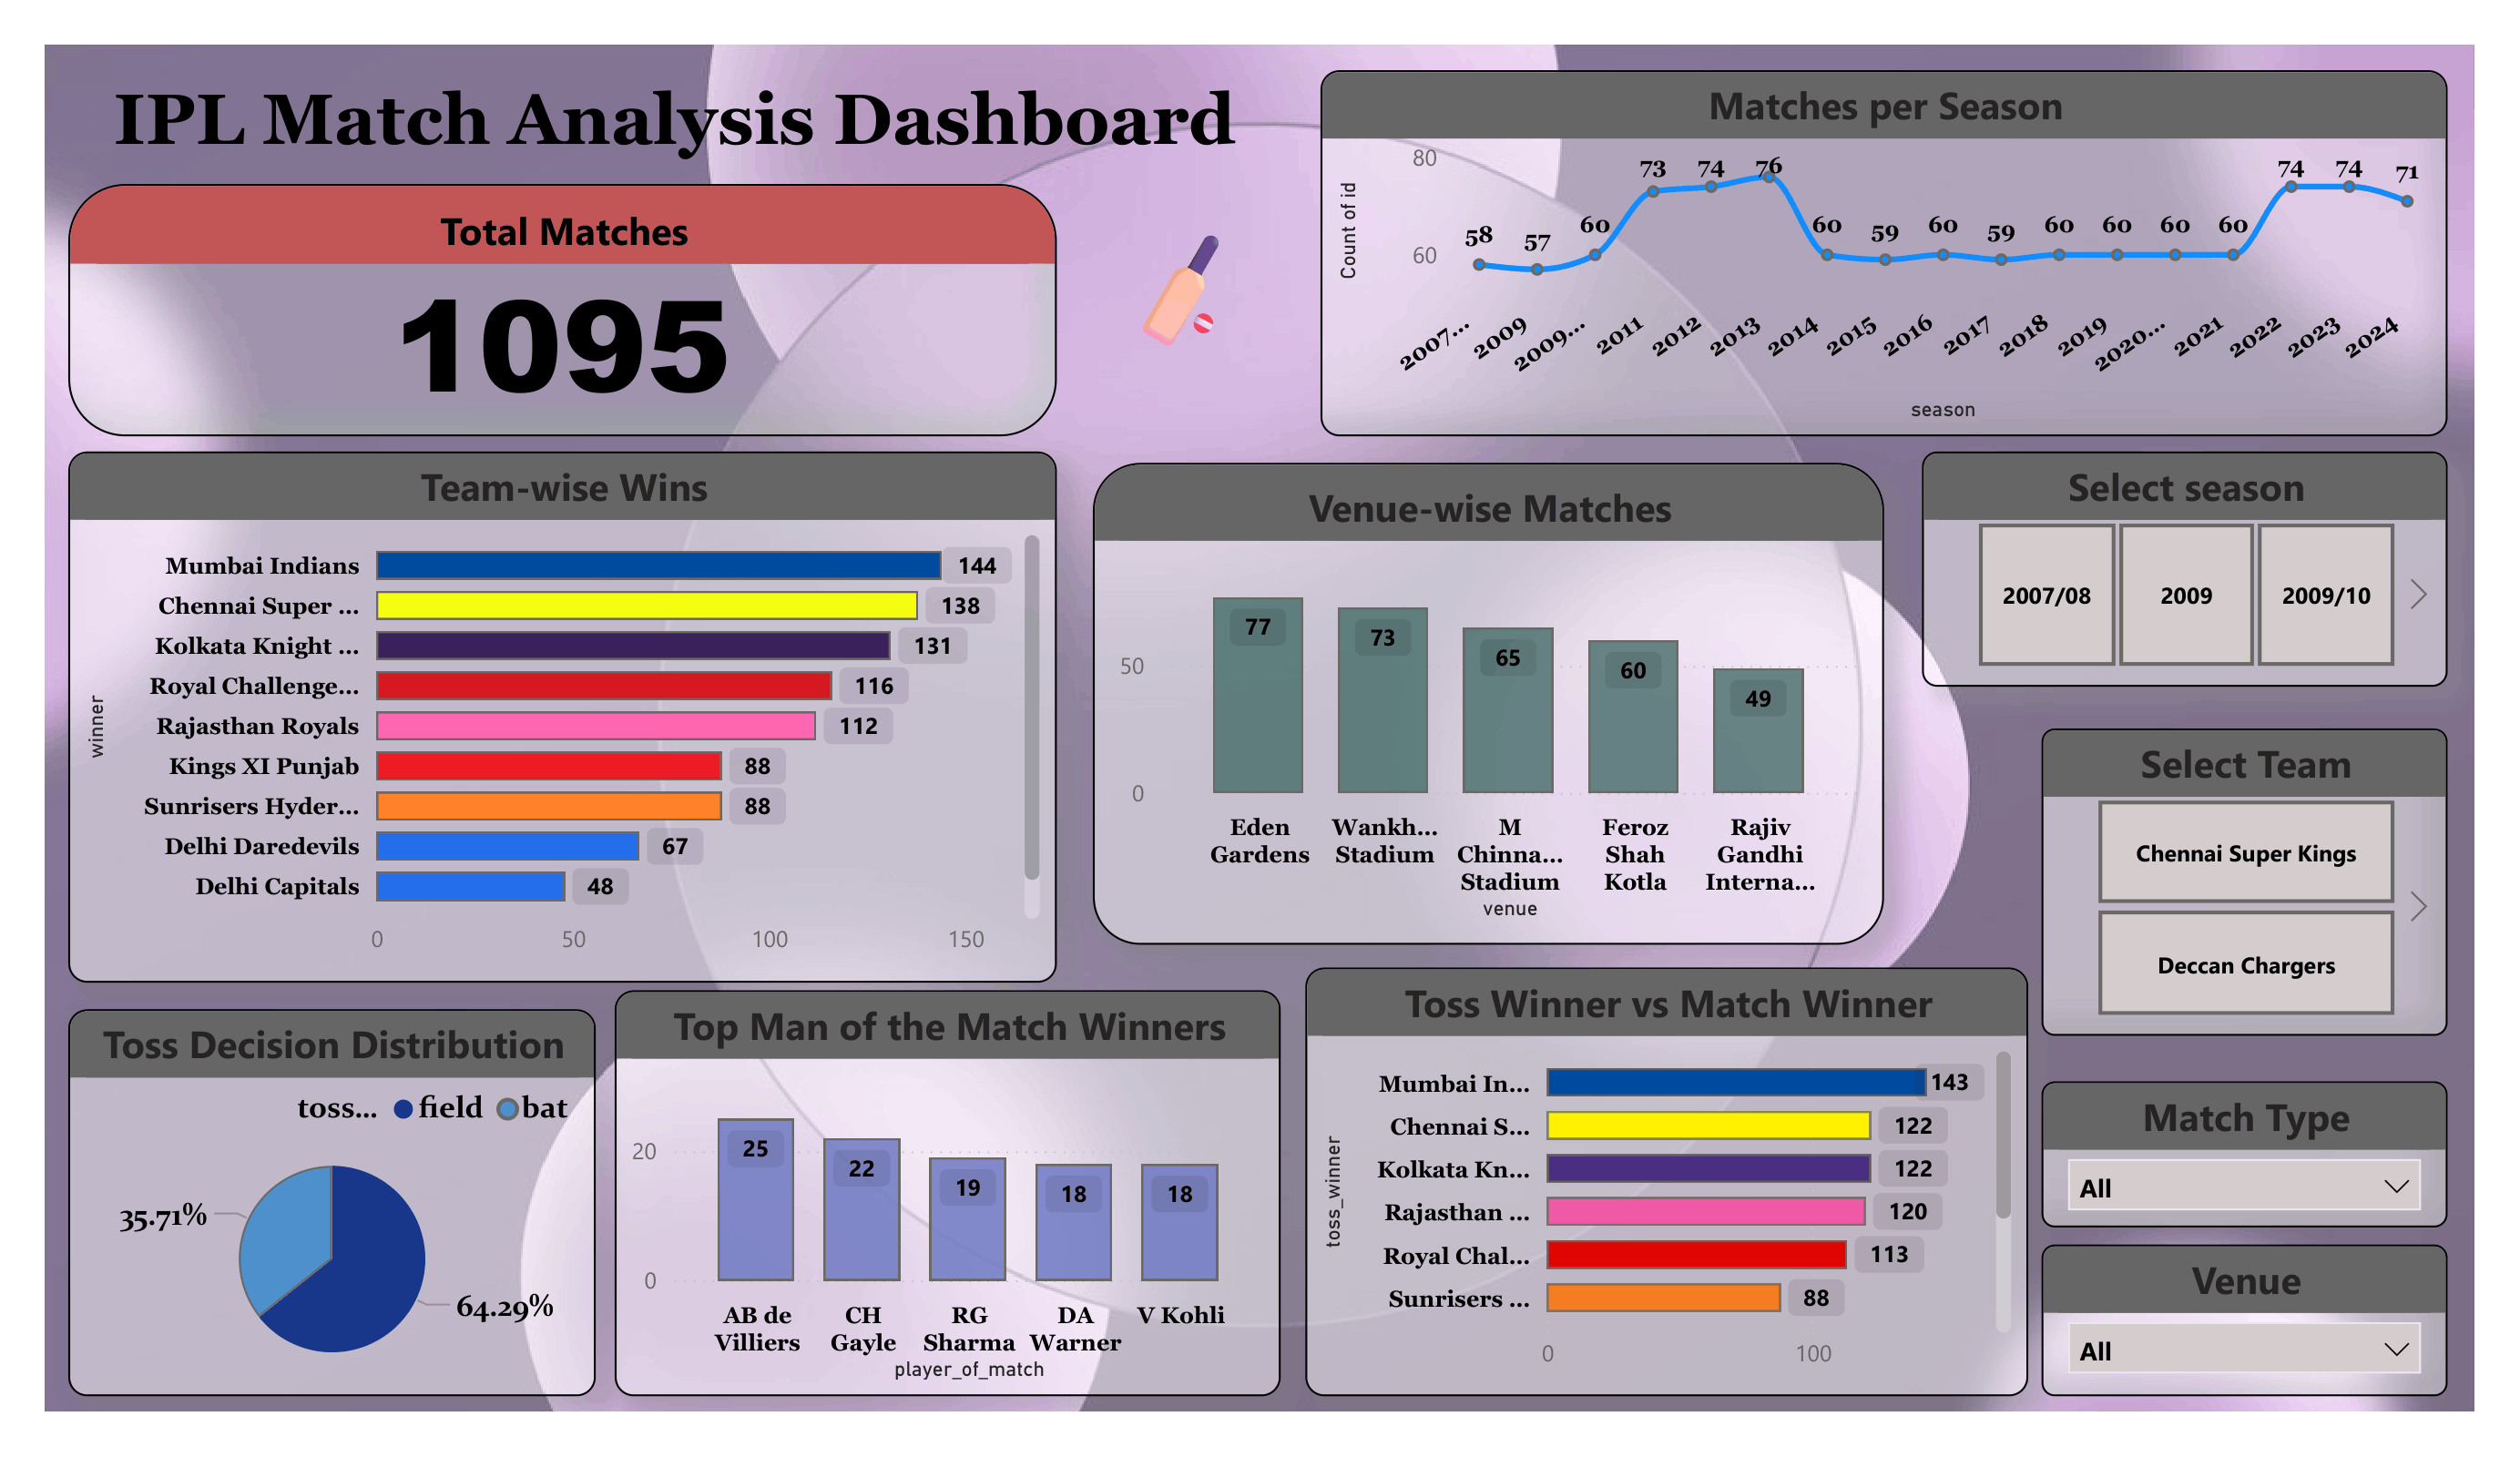

This screenshot's page, from the dashboard's own definition file:
{"tool":"powerbi","page":{"name":"Page 1","canvas":[1280,720],"ordinal":0},"visuals":[{"type":"card","title":"Total Matches","fields":{"Values":["CountNonNull(matches.id)"]},"box":[12.4,73.3,520.4,133.2],"z":0},{"type":"clusteredBarChart","title":"Team-wise Wins","fields":{"Category":["matches.winner"],"Y":["CountNonNull(matches.winner)"]},"box":[12.4,213.7,520.4,279.8],"z":1000},{"type":"pieChart","title":"Toss Decision Distribution","fields":{"Category":["matches.toss_decision"],"Y":["CountNonNull(matches.id)"]},"box":[12.4,508,277.7,204.4],"z":2000},{"type":"lineChart","title":"Matches per Season","fields":{"Category":["matches.season"],"Y":["CountNonNull(matches.id)"]},"box":[672.1,13.4,593.7,193.1],"z":3000},{"type":"clusteredColumnChart","title":"Venue-wise Matches","fields":{"Category":["matches.venue"],"Y":["CountNonNull(matches.id)"]},"box":[552.4,219.9,417.1,254],"z":4000},{"type":"clusteredColumnChart","title":"Top Man of the Match Winners","fields":{"Category":["matches.player_of_match"],"Y":["CountNonNull(matches.player_of_match)"]},"box":[300.5,497.7,351,214.8],"z":5000},{"type":"clusteredBarChart","title":"Toss Winner vs Match Winner","fields":{"Category":["matches.toss_winner"],"Y":["CountNonNull(matches.winner)"]},"box":[663.9,486.3,381,226.1],"z":6000},{"type":"slicer","title":"Select season","fields":{"Values":["matches.season"]},"box":[989.1,213.7,276.7,123.9],"z":7000},{"type":"slicer","title":"Select Team","fields":{"Values":["matches.team1"]},"box":[1052.2,360,213.3,162.2],"z":8000},{"type":"slicer","title":"Venue","fields":{"Values":["matches.venue"]},"box":[1052.1,631.9,213.7,80.5],"z":9000},{"type":"slicer","title":"Match Type","fields":{"Values":["matches.match_type"]},"box":[1052.1,546.2,213.7,76.4],"z":10000},{"type":"textbox","box":[12.4,13.4,629.8,59.9],"z":11000},{"type":"textbox","box":[552.4,81.6,99.1,101.2],"z":11001}]}

Visuals, with their boxes in screenshot pixels (x1, y1, x2, y2):
"Total Matches" card: {"left": 37, "top": 156, "right": 1047, "bottom": 414}
"Team-wise Wins" clusteredBarChart: {"left": 37, "top": 428, "right": 1047, "bottom": 971}
"Toss Decision Distribution" pieChart: {"left": 37, "top": 999, "right": 576, "bottom": 1396}
"Matches per Season" lineChart: {"left": 1318, "top": 39, "right": 2471, "bottom": 414}
"Venue-wise Matches" clusteredColumnChart: {"left": 1086, "top": 440, "right": 1895, "bottom": 933}
"Top Man of the Match Winners" clusteredColumnChart: {"left": 597, "top": 979, "right": 1278, "bottom": 1396}
"Toss Winner vs Match Winner" clusteredBarChart: {"left": 1302, "top": 957, "right": 2042, "bottom": 1396}
"Select season" slicer: {"left": 1933, "top": 428, "right": 2471, "bottom": 668}
"Select Team" slicer: {"left": 2056, "top": 712, "right": 2470, "bottom": 1027}
"Venue" slicer: {"left": 2056, "top": 1240, "right": 2471, "bottom": 1396}
"Match Type" slicer: {"left": 2056, "top": 1074, "right": 2471, "bottom": 1222}
textbox: {"left": 37, "top": 39, "right": 1260, "bottom": 156}
textbox: {"left": 1086, "top": 171, "right": 1278, "bottom": 368}
